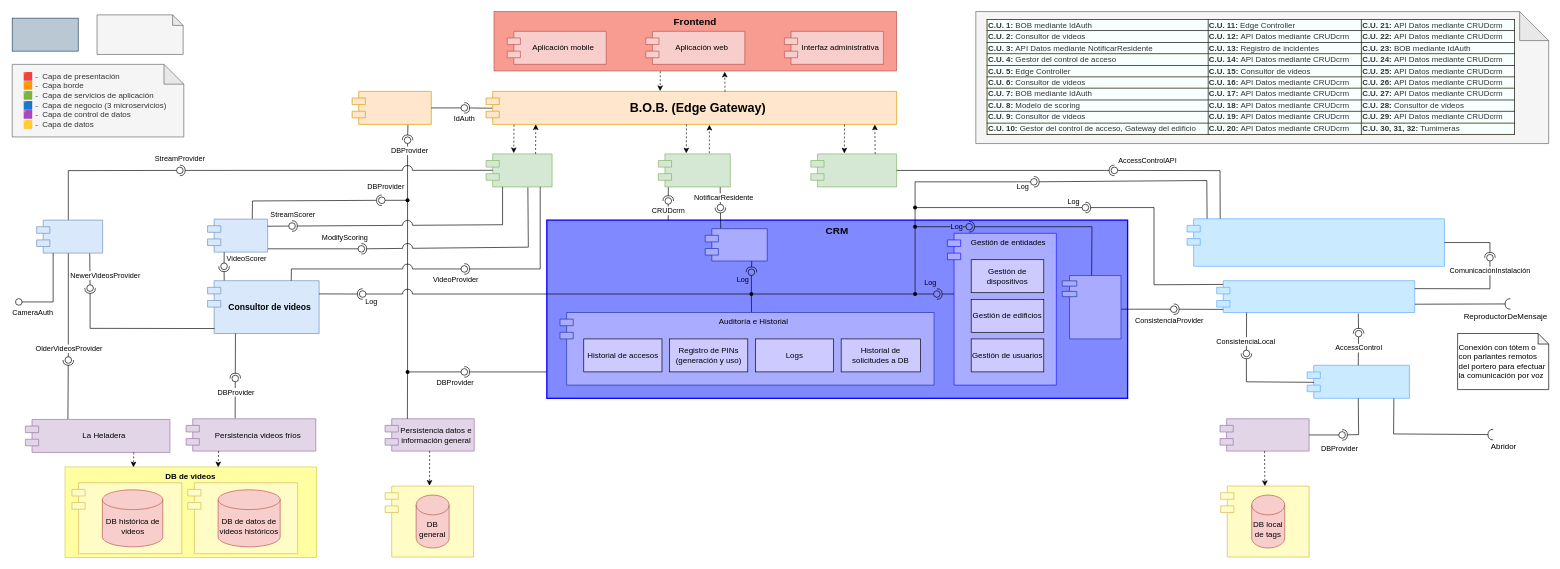
The diagram is 1560 pixels wide and 569 high, and some of its shapes have lost their labels. Each missing label, with the centre of its shape:
API Datos: pixel 694 170
API Interaccioens: pixel 853 170
API Videos: pixel 518 170
Autenticación y autorización: pixel 391 107
Diagrama de componentes: pixel 45 34
Edge Controller: pixel 1357 381
Gateway del edificio: pixel 1315 296
Gestor de información para control de acceso: pixel 1091 307
Gestor del control de acceso: pixel 1315 242
Modelo de scoring: pixel 237 235
Patrón Multi-Tier: pixel 139 34
Persistencia local de tags: pixel 1264 434
Registro de incidentes: pixel 736 244
Tumimeras: pixel 69 236
